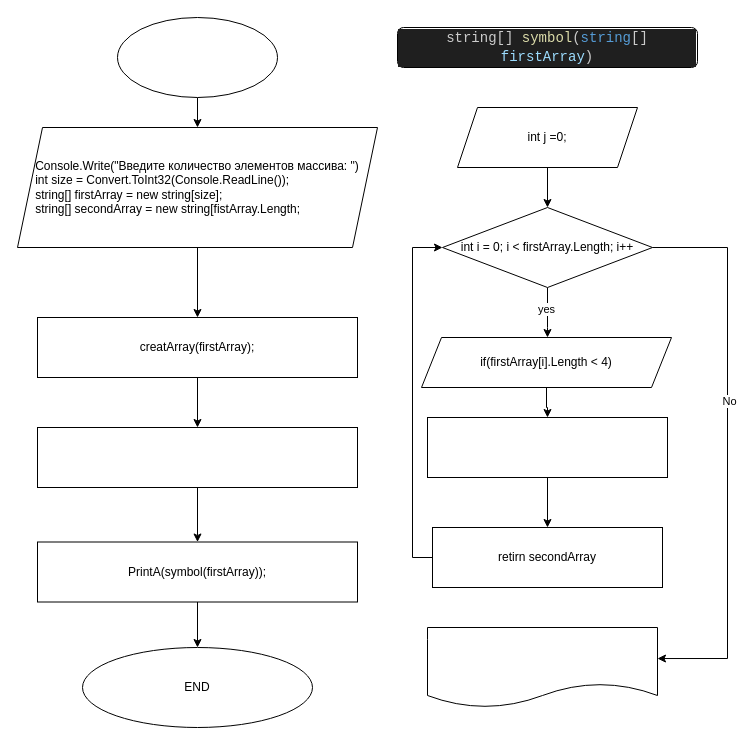
The diagram is 753 pixels wide and 745 high, and some of its shapes have lost their labels. Here are the shapes that lost their labels. From the top down, the box of each, then its label:
(116, 16, 278, 98): START
(36, 426, 358, 488): Print(firstArray);
(426, 416, 668, 478): secondArray[j] = firstArray[i]; j++;
(426, 626, 658, 708): void PrintA(string[] firsstArray)
